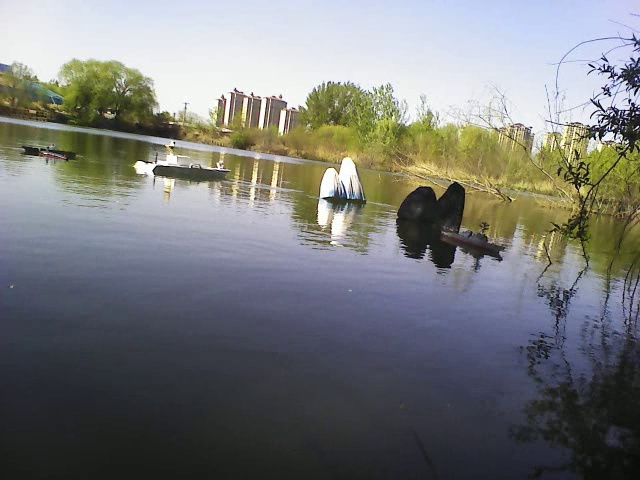aircraft_carrier: (19, 136, 82, 156)
boat: (131, 145, 233, 180)
iceberg: (318, 149, 368, 208)
rock: (396, 175, 468, 230)
warship: (442, 218, 507, 258)
